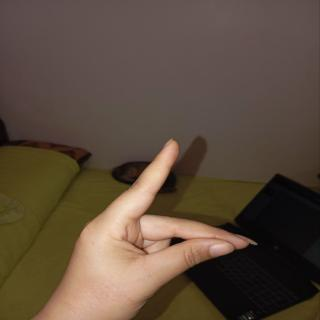TAA: (56, 138, 271, 305)
